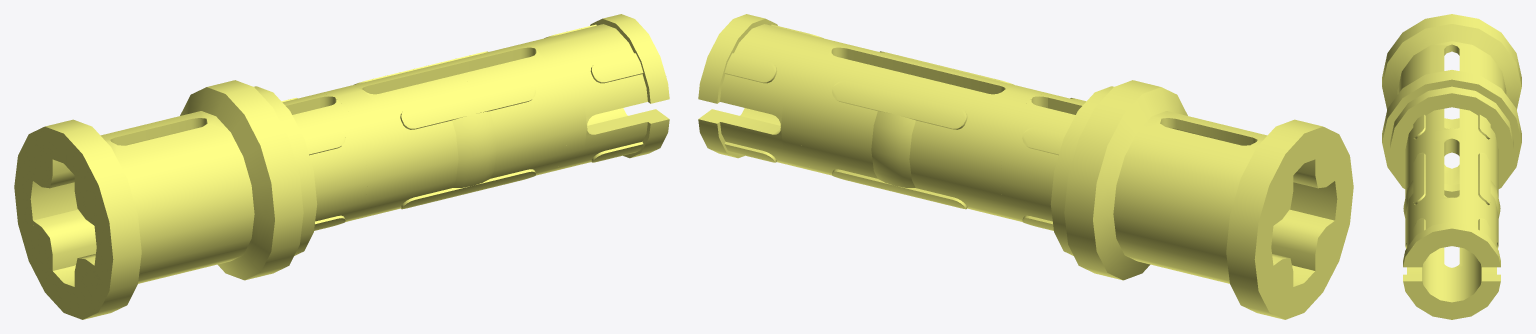
3 renders of one model, left to right at view 1: azimuth 30°, elevation 25°; view 2: azimuth 150°, elevation 25°; view 3: azimuth 270°, elevation 25°, orthographic. The views are drawn at different scales.
Parts seen in each view (by area): view 1: 32054.dat; view 2: 32054.dat; view 3: 32054.dat.
Part boxes in pixels (left/top/right/bottom): 32054.dat: left=14, top=14, right=669, bottom=319; 32054.dat: left=698, top=14, right=1353, bottom=319; 32054.dat: left=1382, top=14, right=1521, bottom=319.
Size of the model in its own units: 0.024 by 0.0072 by 0.0072.
